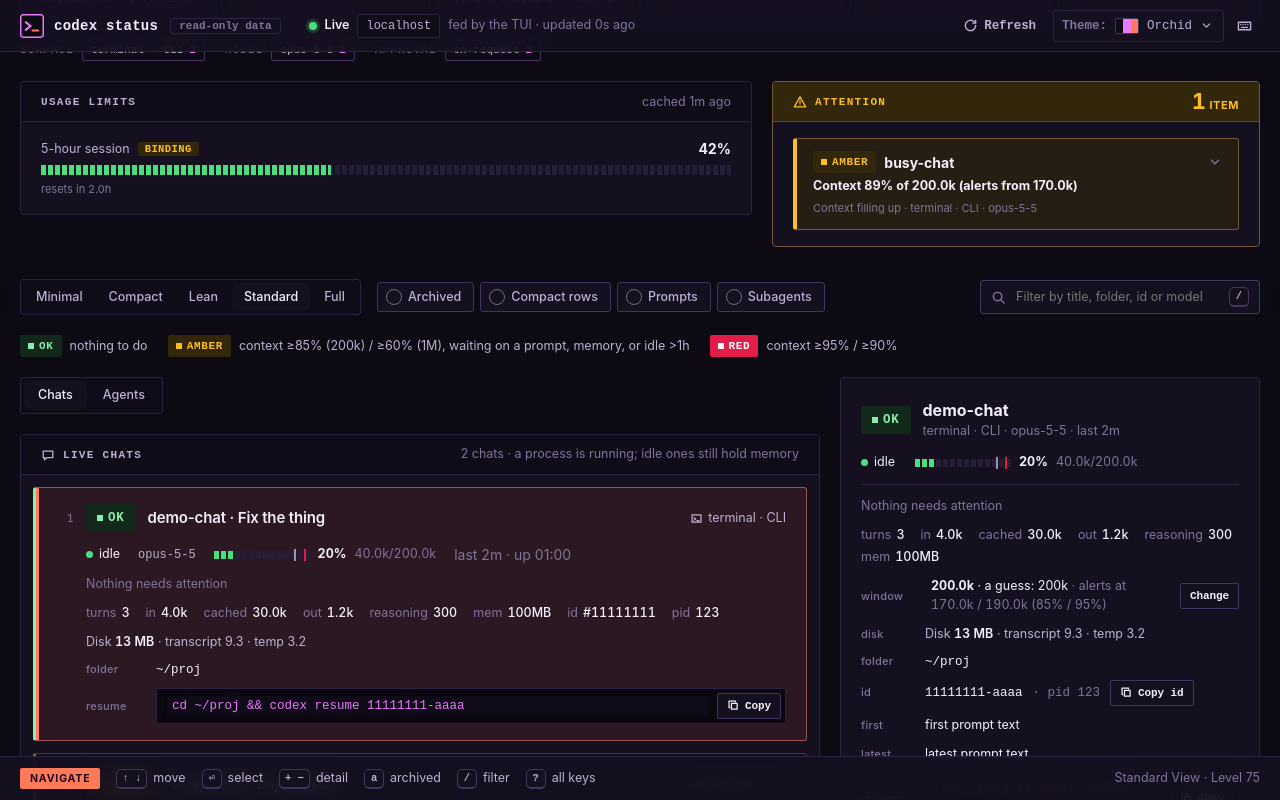
context window control (per chat) › a dropdown of sizes starts on the chat's current size and says what applies where
The image size is (1280, 800).
(page scrolled)
Click the button with aria-label "Change the context window".
click(1210, 596)  # box [1180,583,1239,609]
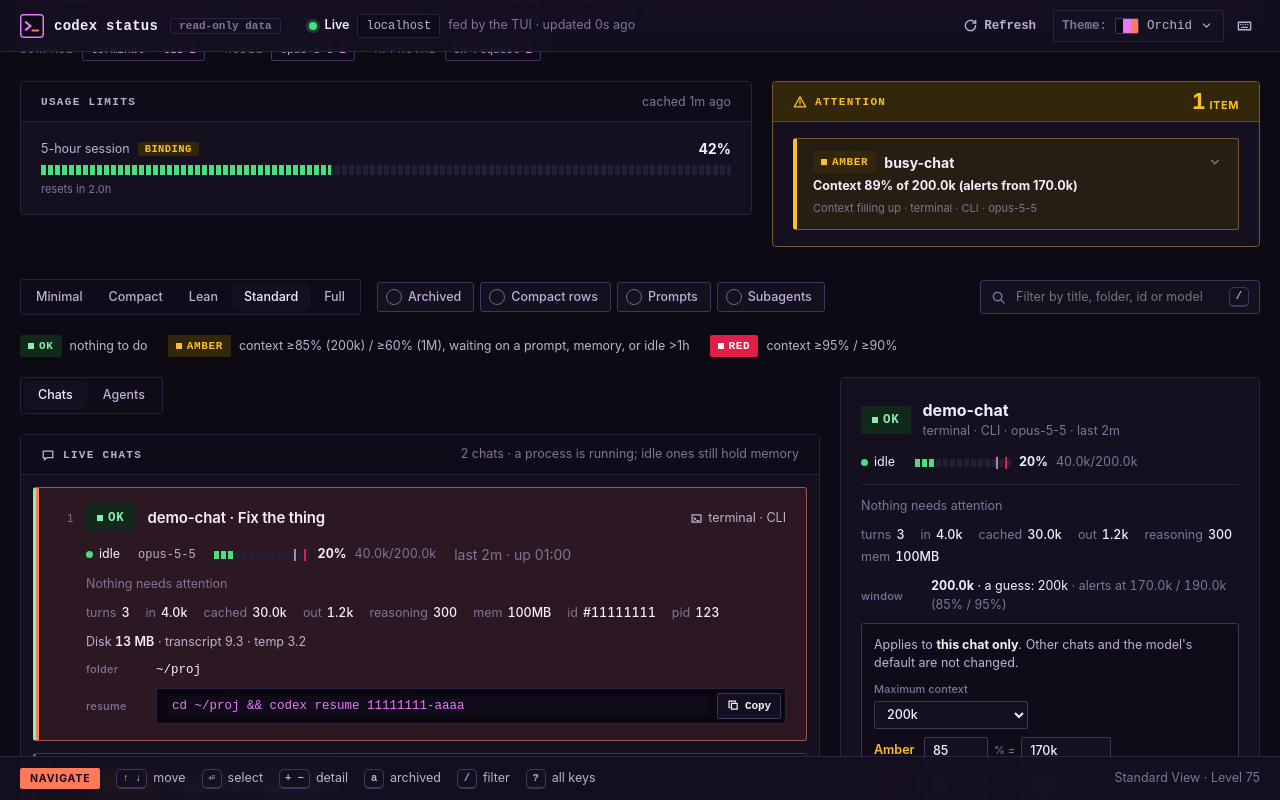
Expected: the dropdown labelled "Maximum context" shows "200k", [874,701,1028,729]
Expected: the text "this chat only" is shown, [936,637,1019,652]
Expected: the number field named "Amber percent" holds "85", [924,737,988,765]
